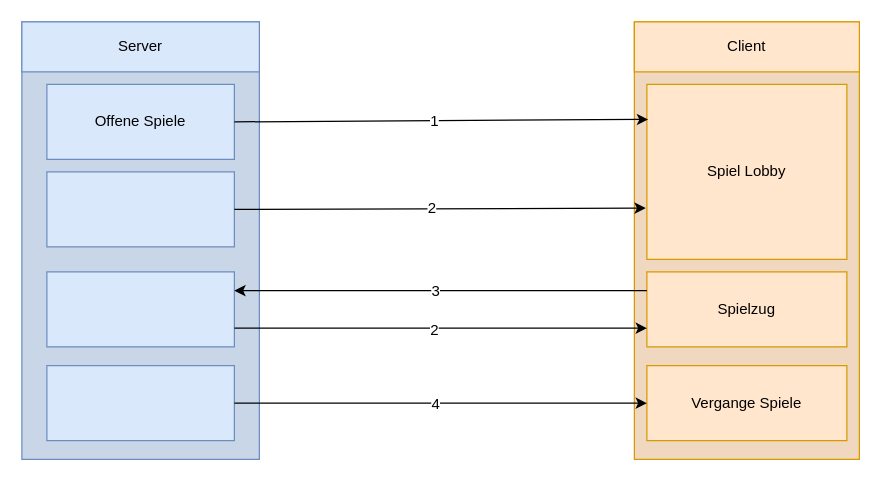
This 881x481 diagram has some shape labels left out. Here are the shapes that lost their labels. From the top down, the box of each, then its label:
(46, 171, 234, 247): Meine Spiele
(46, 271, 234, 347): Business Logik
(46, 364, 234, 441): Abgeschlossene Spiele
